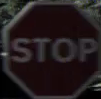Stop: (1, 1, 95, 86)
